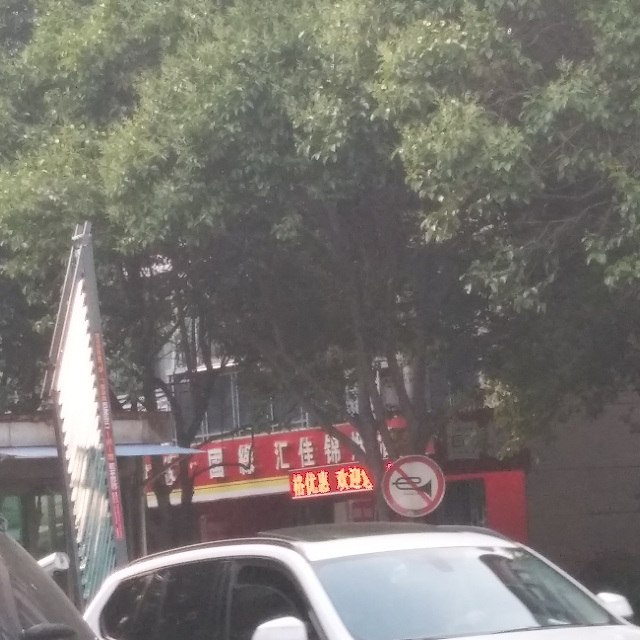nohonk: (388, 457, 440, 516)
